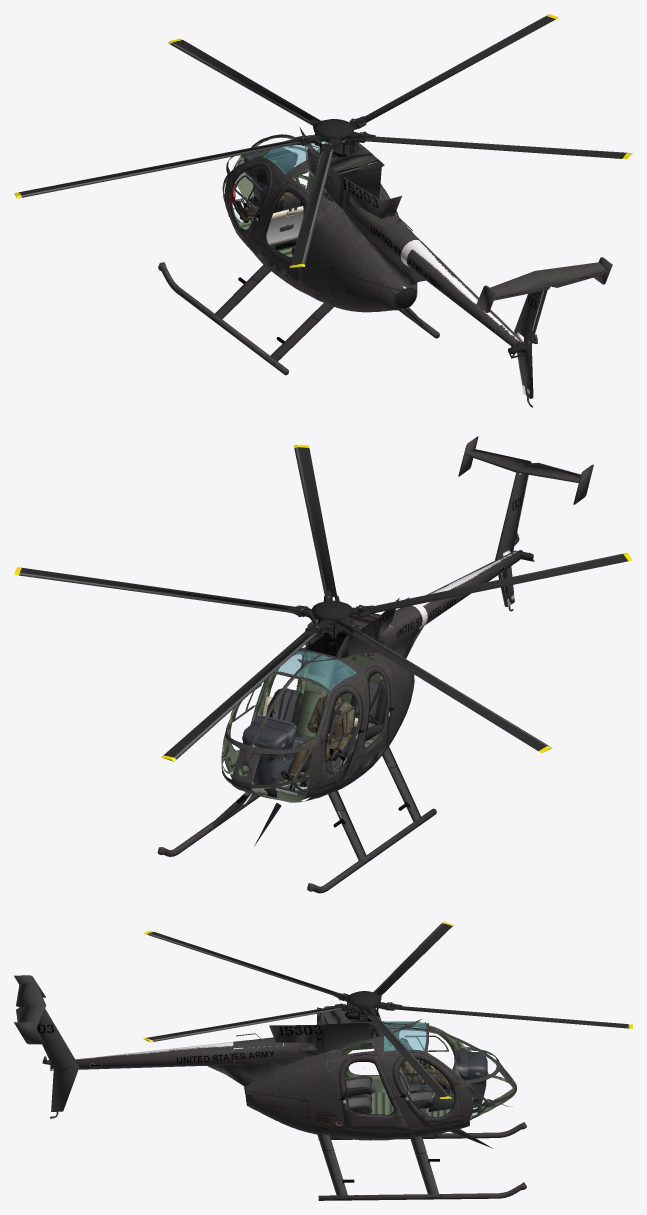
The model's file is md5_int1.glb.
3 renders of one model, top to bottom at view 1: azimuth 30°, elevation 25°; view 2: azimuth 150°, elevation 25°; view 3: azimuth 270°, elevation 25°, orthographic. The views are drawn at different scales.
Parts seen in each view (by area): view 1: ext_fuse_shadow, rotor_blades, ext_fuse, ext_fuse_skids, ixt_console, ext_fuse_doorLB, ext_fuse_doorL, int_fuse, rotor_hub, glasss_grn; view 2: rotor_blades, ext_fuse_shadow, ext_fuse, ixt_console, ext_fuse_skids, int_fuse, ixt_pilot, ext_fuse_doorL, glasss_grn, ixt_seatsL, ext_fuse_doorLB, ixt_seatsR (+1 smaller); view 3: ext_fuse_shadow, ext_fuse, rotor_blades, ext_fuse_skids, ext_fuse_doorRB, ixt_console, int_fuse, ext_fuse_doorR, ixt_seatsR, glasss_grn, rotor_hub, ixt_seatsL (+2 smaller).
Part boxes in pixels (x1,y1,x2,y2): ext_fuse_shadow: [234, 177, 612, 407]; rotor_blades: [14, 14, 632, 267]; ext_fuse: [222, 134, 398, 297]; ext_fuse_skids: [158, 262, 439, 375]; ixt_console: [231, 147, 325, 250]; ext_fuse_doorLB: [258, 182, 308, 284]; ext_fuse_doorL: [228, 160, 272, 245]; int_fuse: [222, 134, 388, 293]; rotor_hub: [314, 119, 353, 156]; glasss_grn: [264, 141, 328, 174]; rotor_blades: [14, 444, 632, 761]; ext_fuse_shadow: [304, 436, 593, 801]; ext_fuse: [221, 613, 400, 846]; ixt_console: [242, 655, 358, 797]; ext_fuse_skids: [157, 746, 436, 893]; int_fuse: [221, 651, 391, 802]; ixt_pilot: [280, 696, 354, 786]; ext_fuse_doorL: [317, 685, 363, 789]; glasss_grn: [276, 651, 355, 690]; ixt_seatsL: [310, 677, 387, 760]; ext_fuse_doorLB: [352, 665, 393, 776]; ixt_seatsR: [266, 671, 342, 733]; ext_fuse_shadow: [14, 975, 464, 1140]; ext_fuse: [317, 1006, 516, 1148]; rotor_blades: [143, 922, 632, 1098]; ext_fuse_skids: [317, 1122, 526, 1200]; ext_fuse_doorRB: [338, 1054, 409, 1130]; ixt_console: [341, 1036, 487, 1116]; int_fuse: [326, 1021, 514, 1132]; ext_fuse_doorR: [392, 1052, 461, 1127]; ixt_seatsR: [347, 1071, 433, 1113]; glasss_grn: [384, 1021, 426, 1051]; rotor_hub: [347, 991, 381, 1021]; ixt_seatsL: [345, 1045, 430, 1096].
Size of the model in its own units: 7.65 by 3.22 by 9.2.
Materials: 15 (11 with a texture image).
